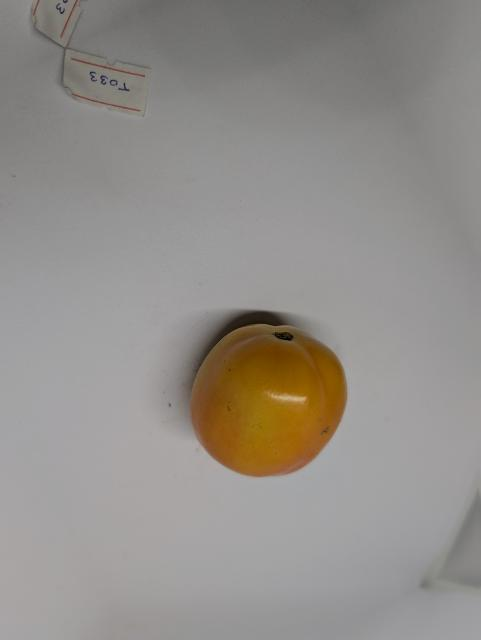turning: (185, 311, 357, 481)
